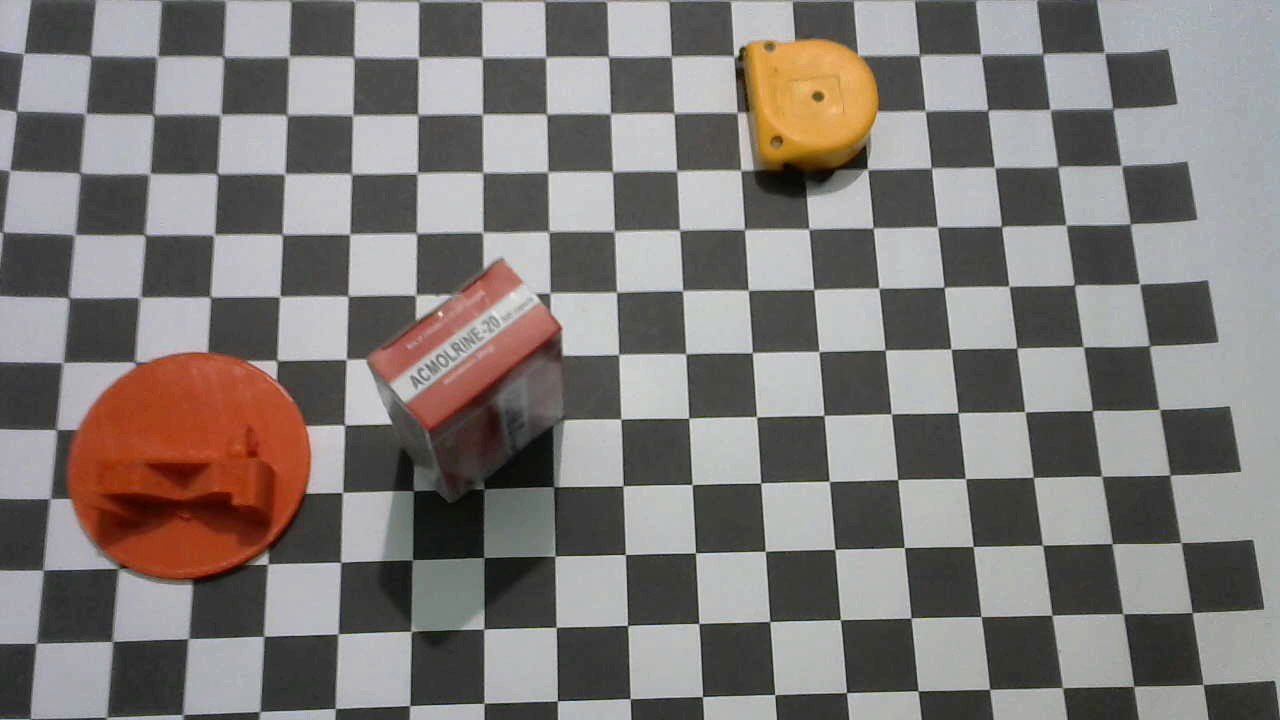blue: (739, 37, 879, 175)
green: (65, 352, 314, 585)
red: (366, 261, 569, 500)
